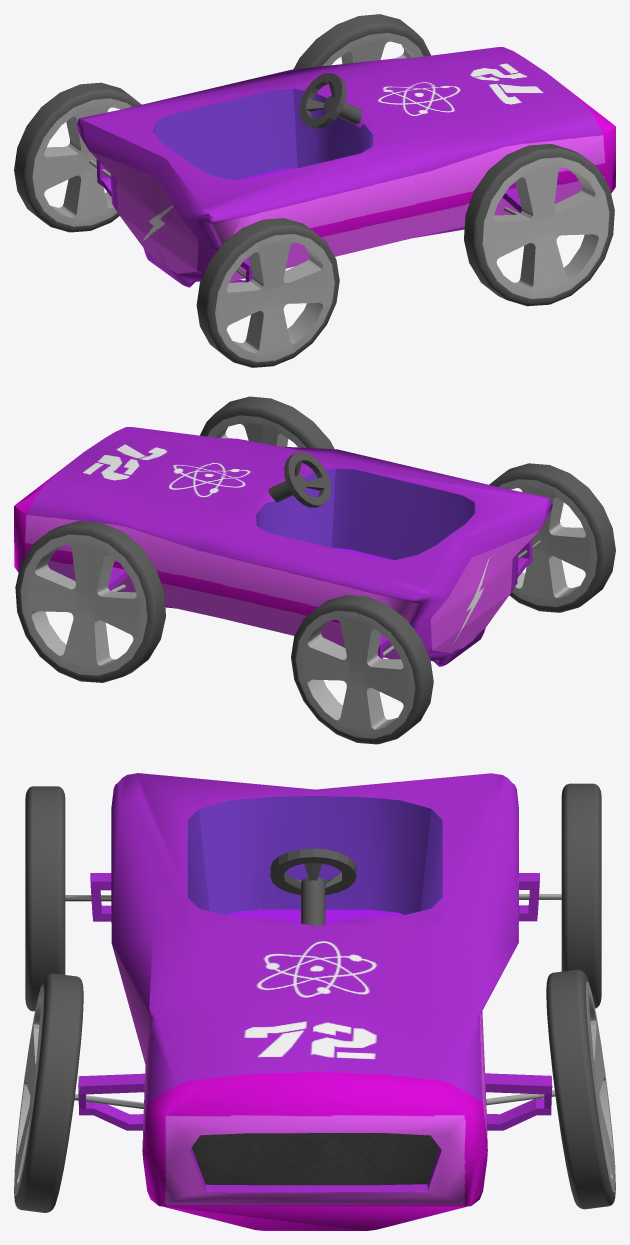
The picture shows the model from 3 angles, top to bottom: view 1: azimuth 30°, elevation 25°; view 2: azimuth 150°, elevation 25°; view 3: azimuth 270°, elevation 25°; orthographic projection. The views are drawn at different scales.
Visible parts, largest first — view 1: pasted__pCylinder4; view 2: pasted__pCylinder4; view 3: pasted__pCylinder4.
Part boxes in pixels (x1=…): pasted__pCylinder4: x1=14, y1=14, x2=615, y2=367; pasted__pCylinder4: x1=14, y1=396, x2=615, y2=744; pasted__pCylinder4: x1=14, y1=773, x2=615, y2=1230.
Bounding box in the file's own units: 6.47 × 2.51 × 5.01.
1 material, 1 textured.
